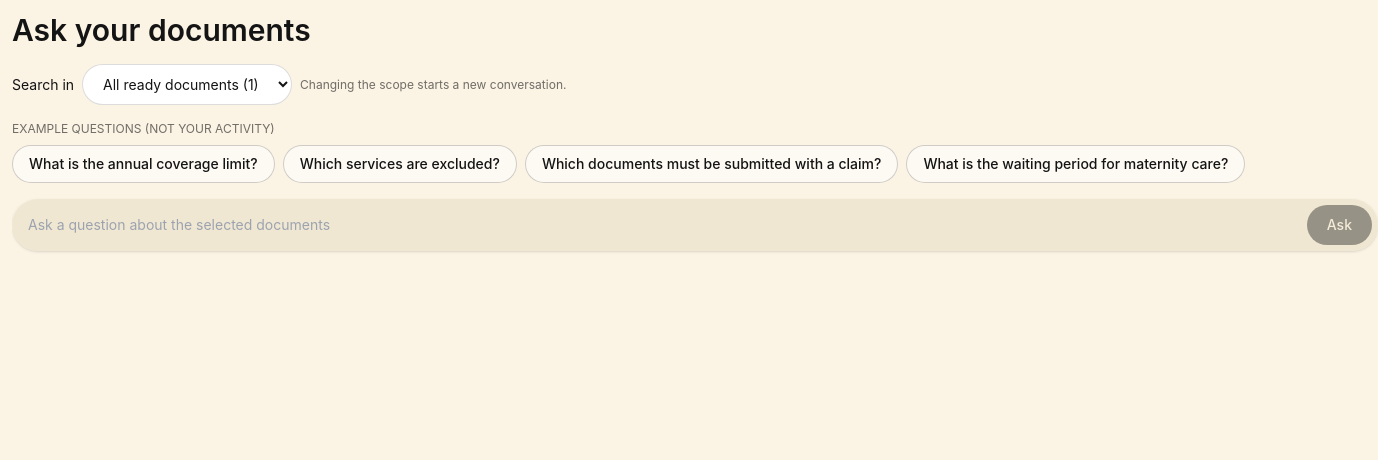
Test case: Chat › renders an answer with a citation that opens its excerpt
Type "What is the limit?" into the field named "Your question".
click(663, 225); type("What is the limit?")  # box [28,205,1299,245]
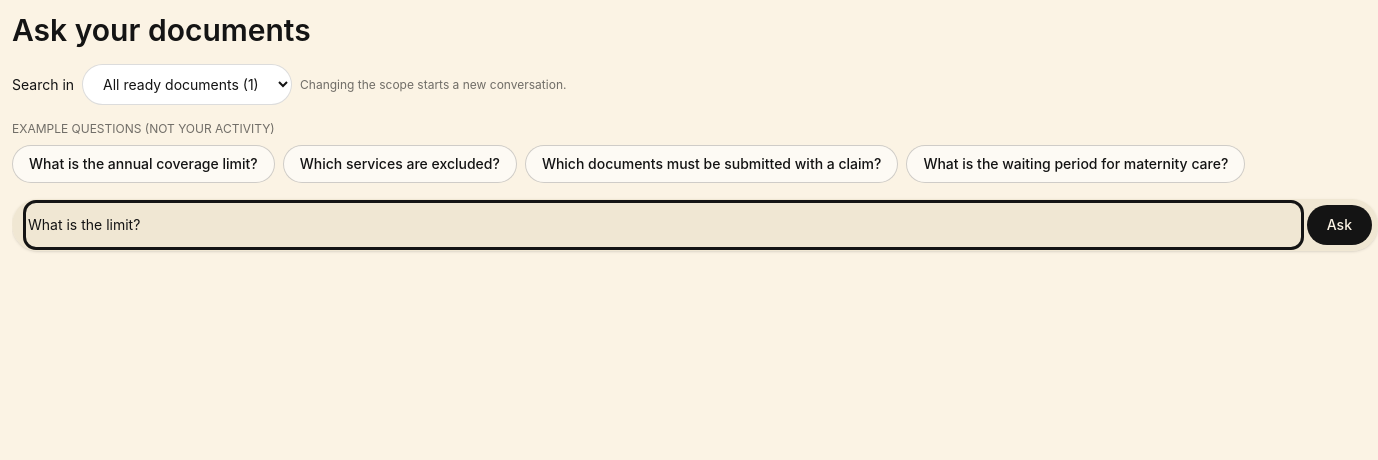
Click the button "Ask".
click(1339, 225)  # box [1307,205,1372,245]
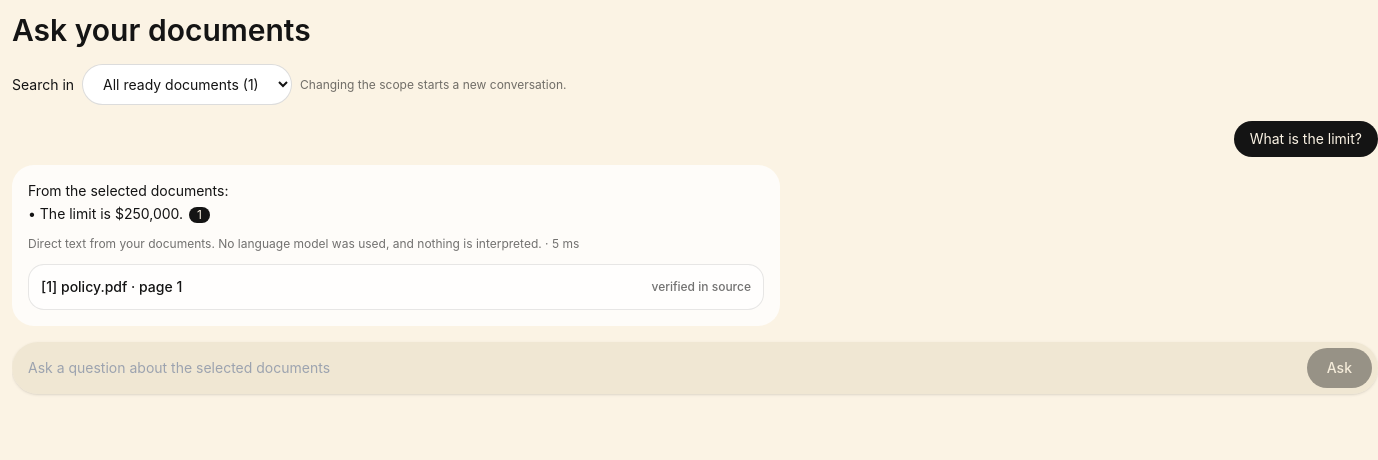
Now the text "Direct text from your documents" is shown, box [28,236,542,251]
Click the button named "Open source 1".
click(199, 215)  # box [189,207,210,223]
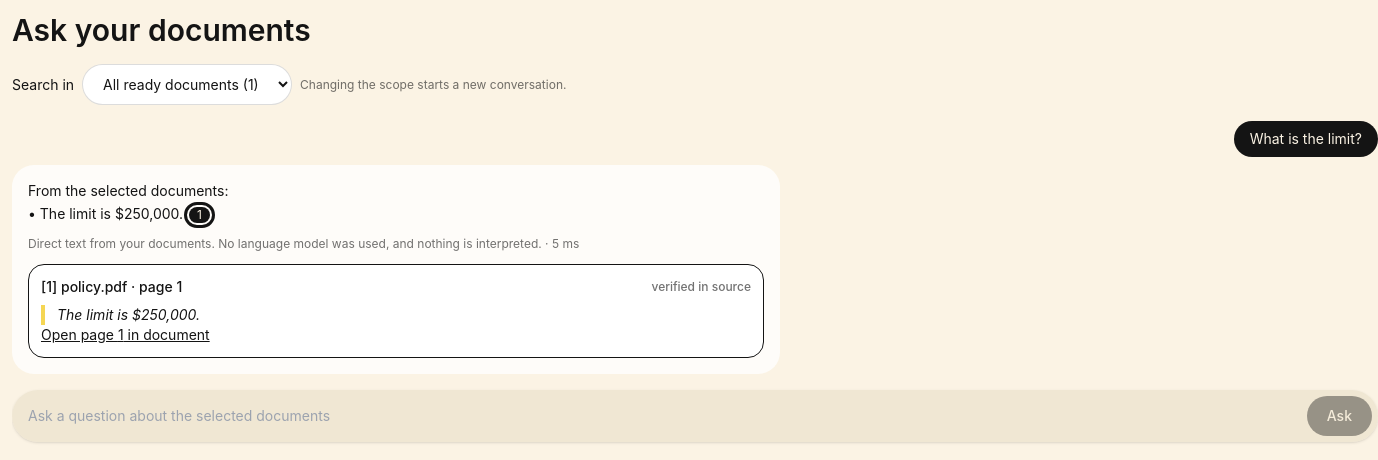
Now the link "Open page 1 in document" is shown, box [41,326,210,343]
